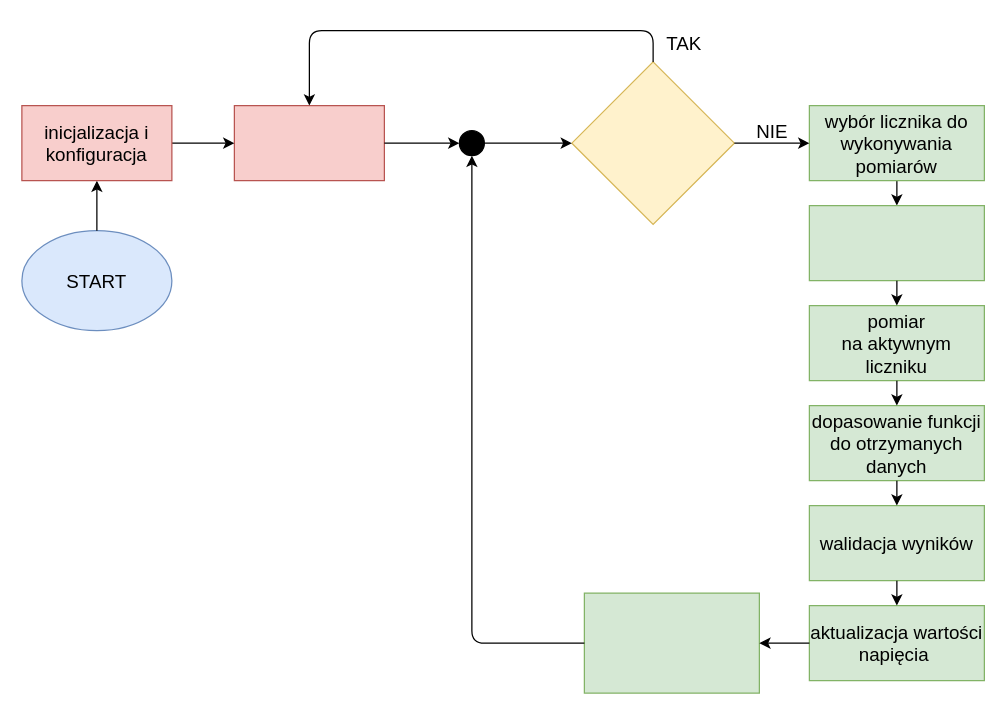
The diagram is 1006 pixels wide and 715 high, and some of its shapes have lost their labels. The box of each missing label's shape, as (x1, y1, x2, y2) in pixels:
konfiguracja aktywnego licznika: (808, 204, 984, 281)
przesłanie za pomocą DIM oraz zapis wyników do pliku: (583, 592, 759, 693)
rozpoczęcie kolejnej iteracji: (233, 104, 384, 181)
wykonano pomiary na każdym liczniku?: (571, 61, 734, 224)
